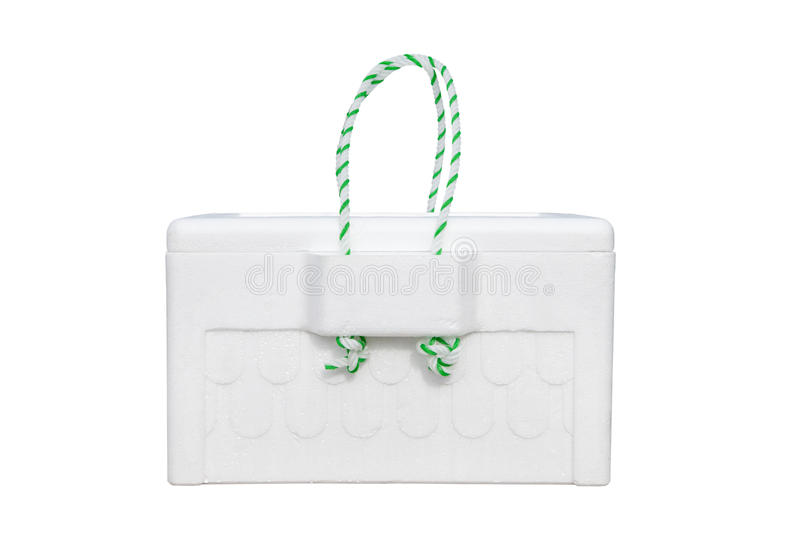Foam Box: (158, 48, 619, 492)
